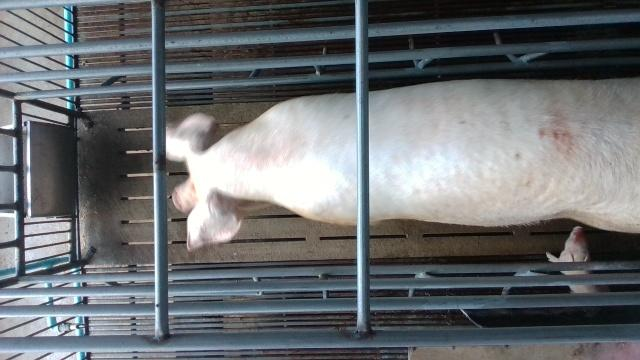piglet: (546, 226, 610, 292)
sow-stand: (164, 77, 640, 252)
